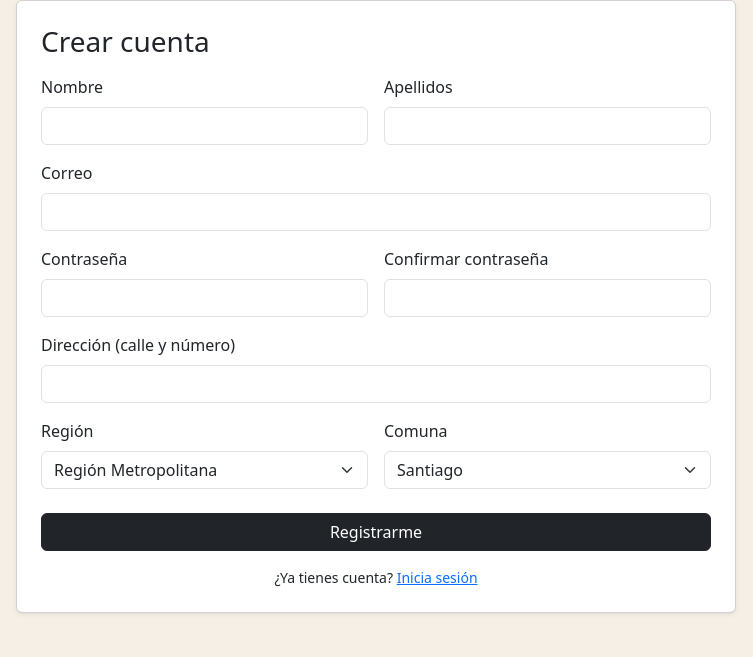
RegistroView › muestra un error si las contraseñas no coinciden
Type "Pedro" into the field labelled "Nombre" at (204, 126), box [41,107,368,145]
Type "Soto" into the field labelled "Apellidos" at (548, 126), box [384,107,711,145]
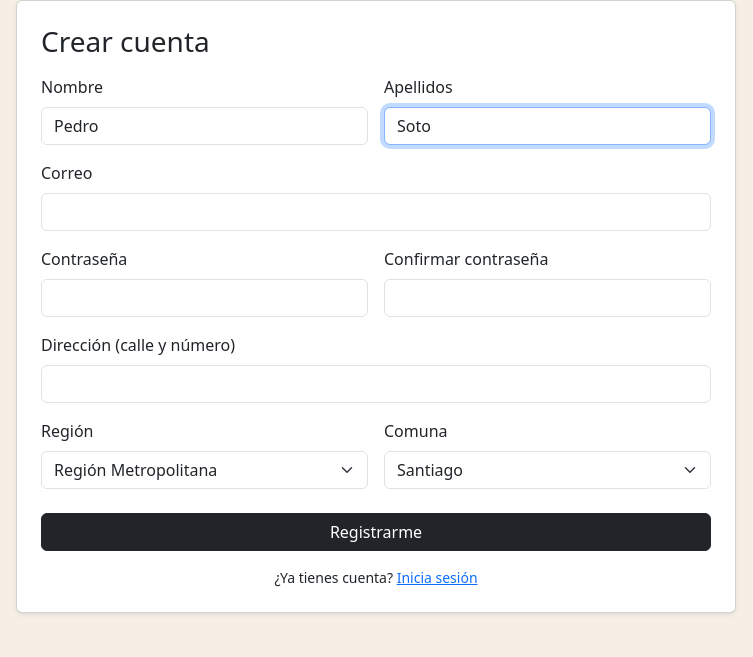
Type "nuevo@correo.cl" into the field labelled "Correo" at (376, 212), box [41,193,711,231]
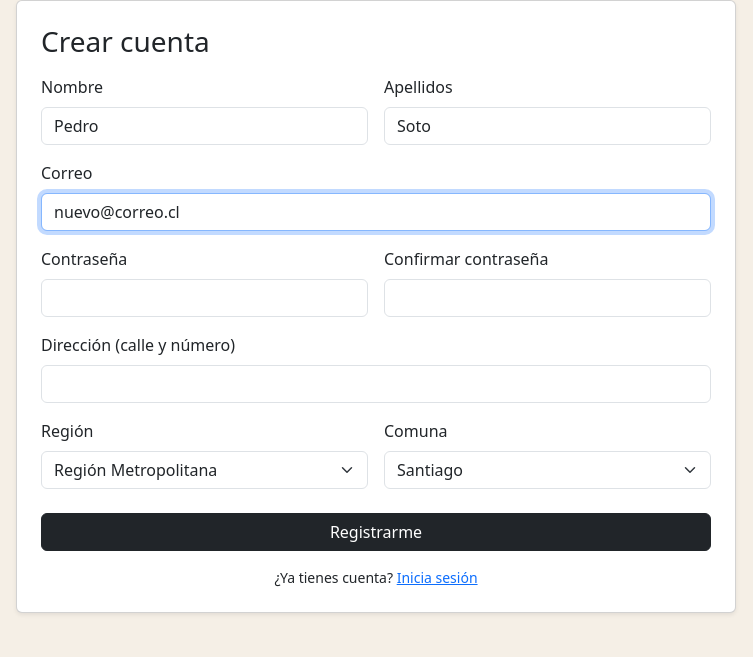
Type "secreta1" into the password field labelled "Contraseña" at (204, 298), box [41,279,368,317]
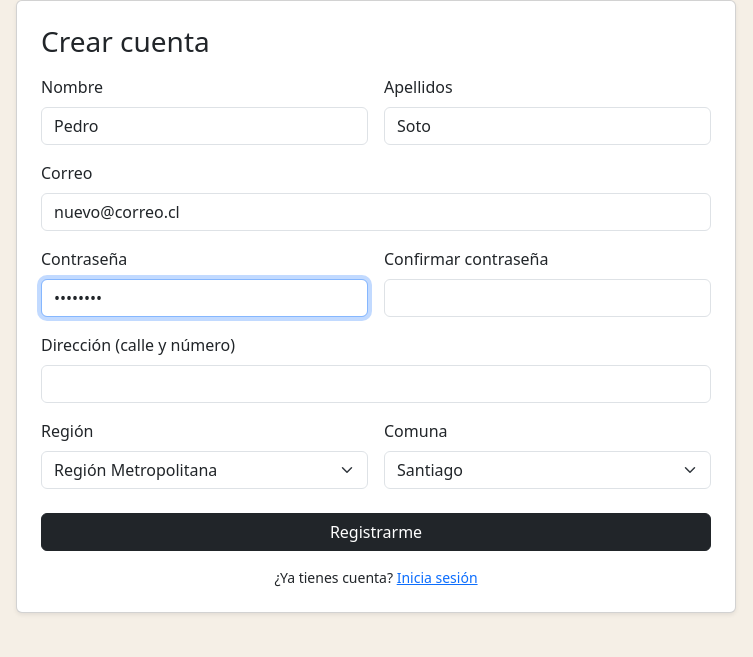
Type "otraClave" into the password field labelled "Confirmar contraseña" at (548, 298), box [384,279,711,317]
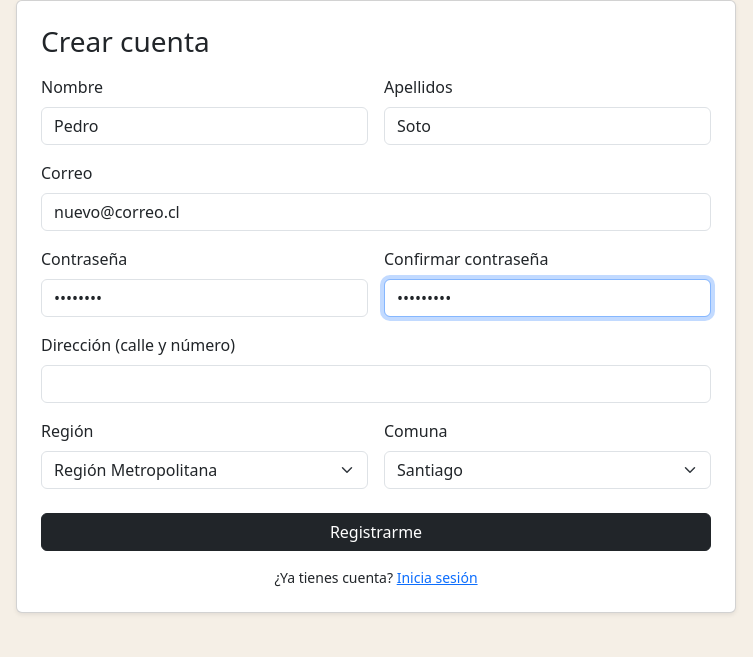
Type "Las Rosas 10" into the field labelled "Dirección (calle y número)" at (376, 384), box [41,365,711,403]
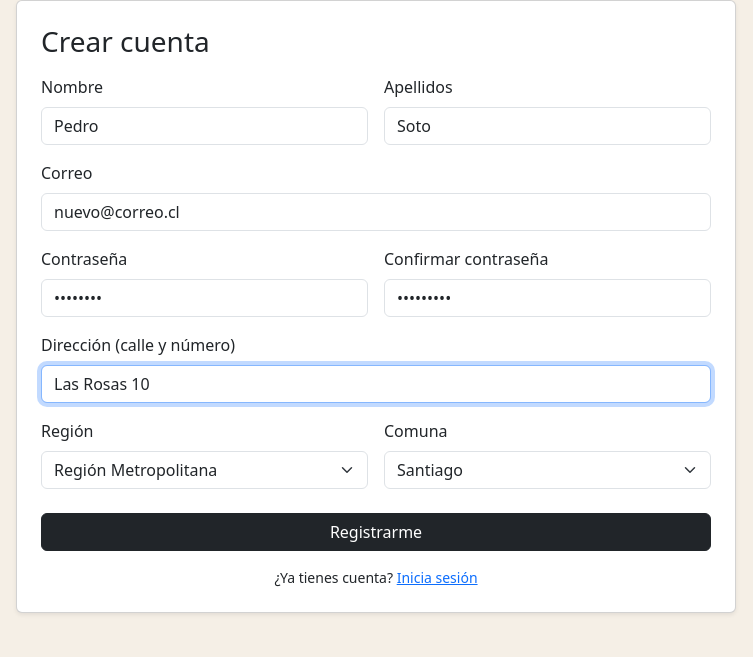
Click the button "Registrarme" at (376, 532), box [41,513,711,551]
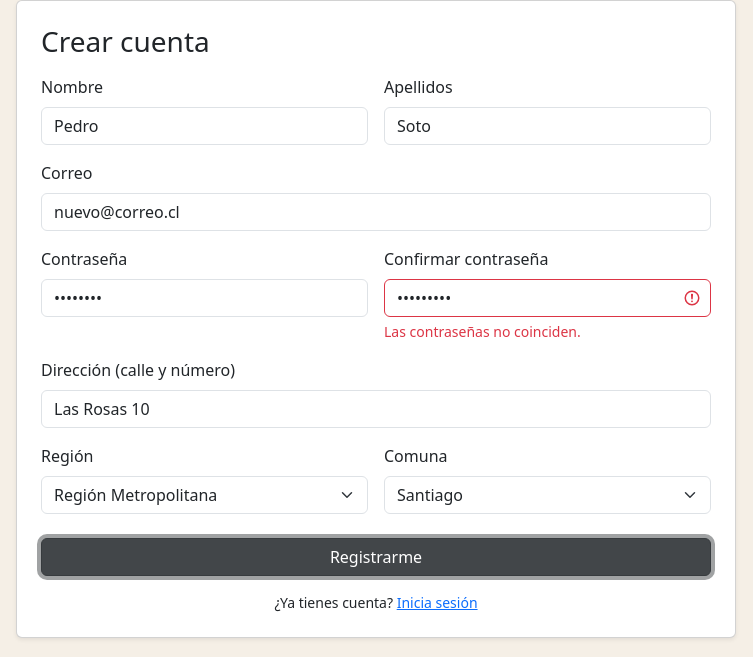
Result: the text "Las contraseñas no coinciden." is shown at [384,322,581,341]
